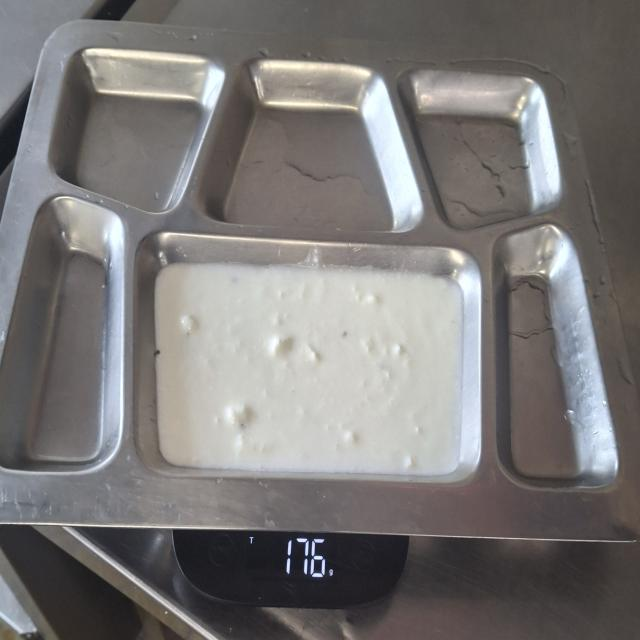Raita: (150, 256, 467, 479)
